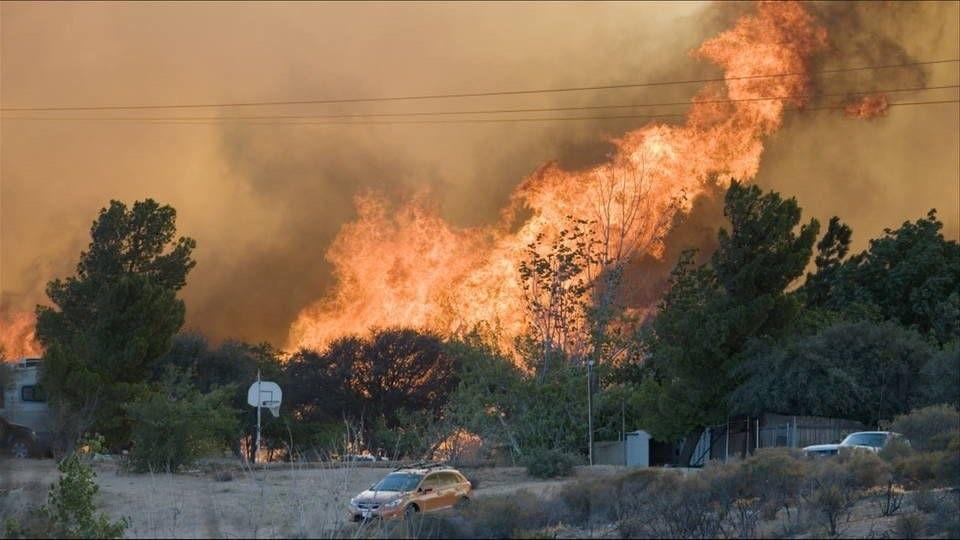fire: (287, 171, 622, 417), (592, 12, 809, 248), (0, 255, 77, 383)
